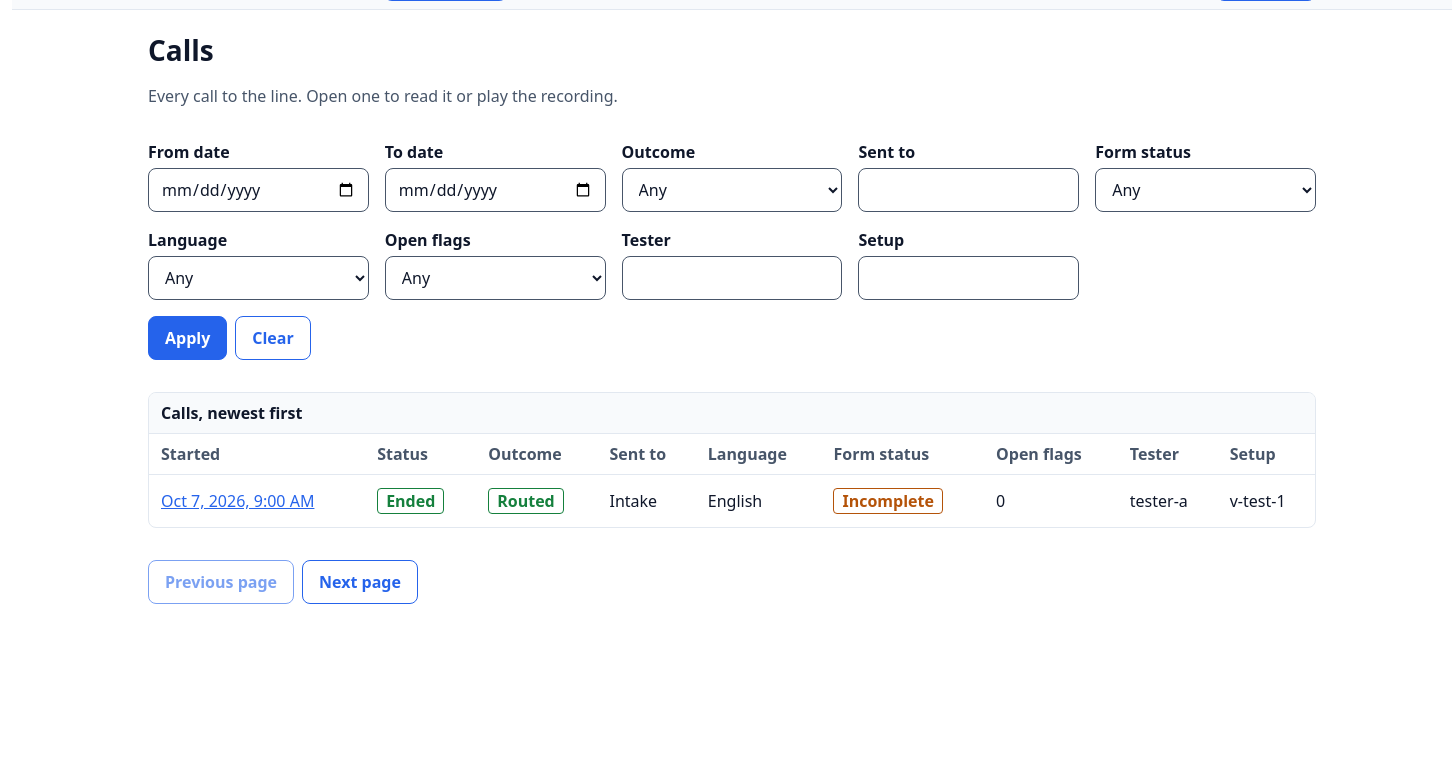
Test: calls › writes filters to the URL and queries with them
This screenshot has width=1452, height=759.
Check: the table with test id "admin-table-calls" is shown, box top-left (149, 393), bottom-right (1315, 527)
Select "Crisis" in the dropdown with test id "calls-filter-outcome" at {"x": 732, "y": 190}, box top-left (622, 168), bottom-right (842, 212)
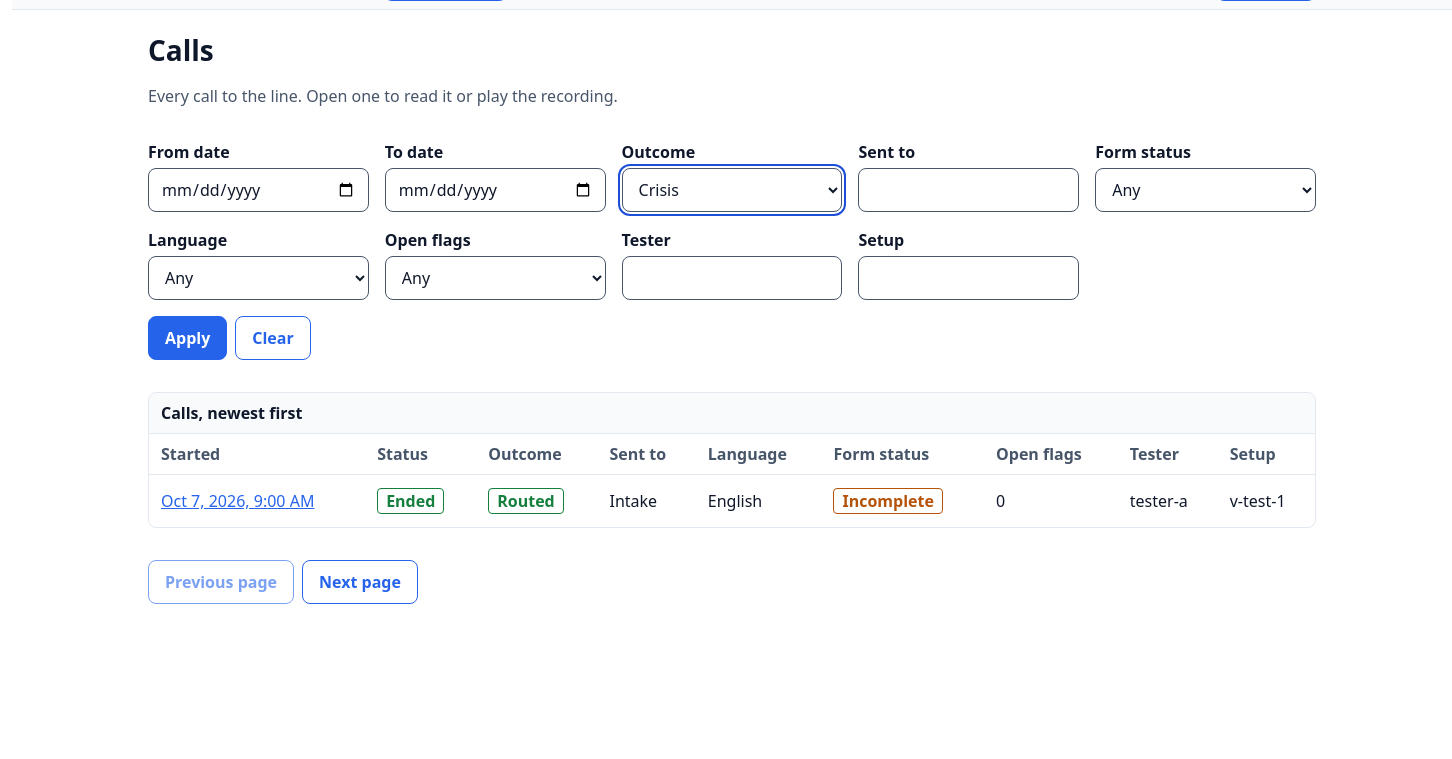
Select "Incomplete" in the dropdown with test id "calls-filter-form_status" at {"x": 1206, "y": 190}, box top-left (1095, 168), bottom-right (1316, 212)
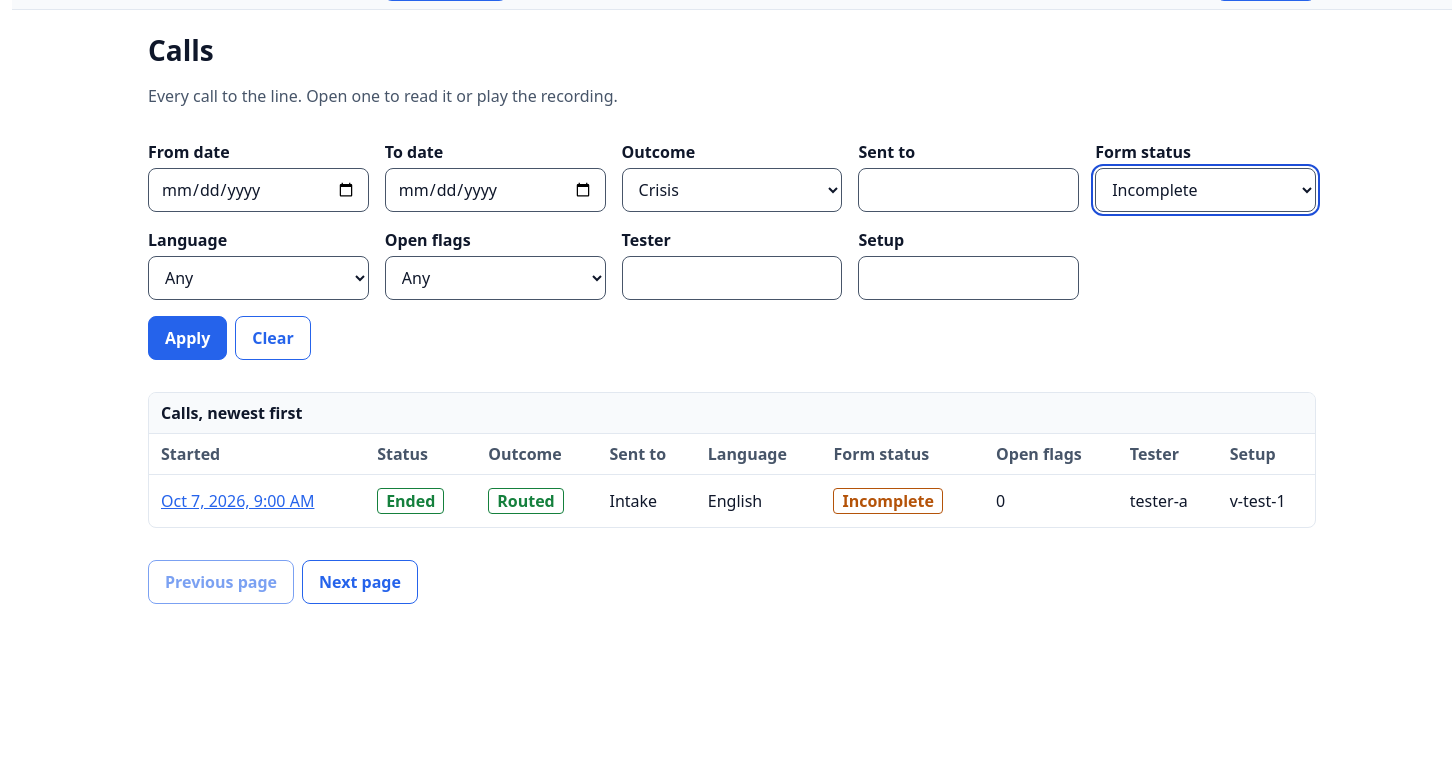
Select "Spanish" in the dropdown with test id "calls-filter-language" at {"x": 258, "y": 278}, box top-left (148, 256), bottom-right (369, 300)
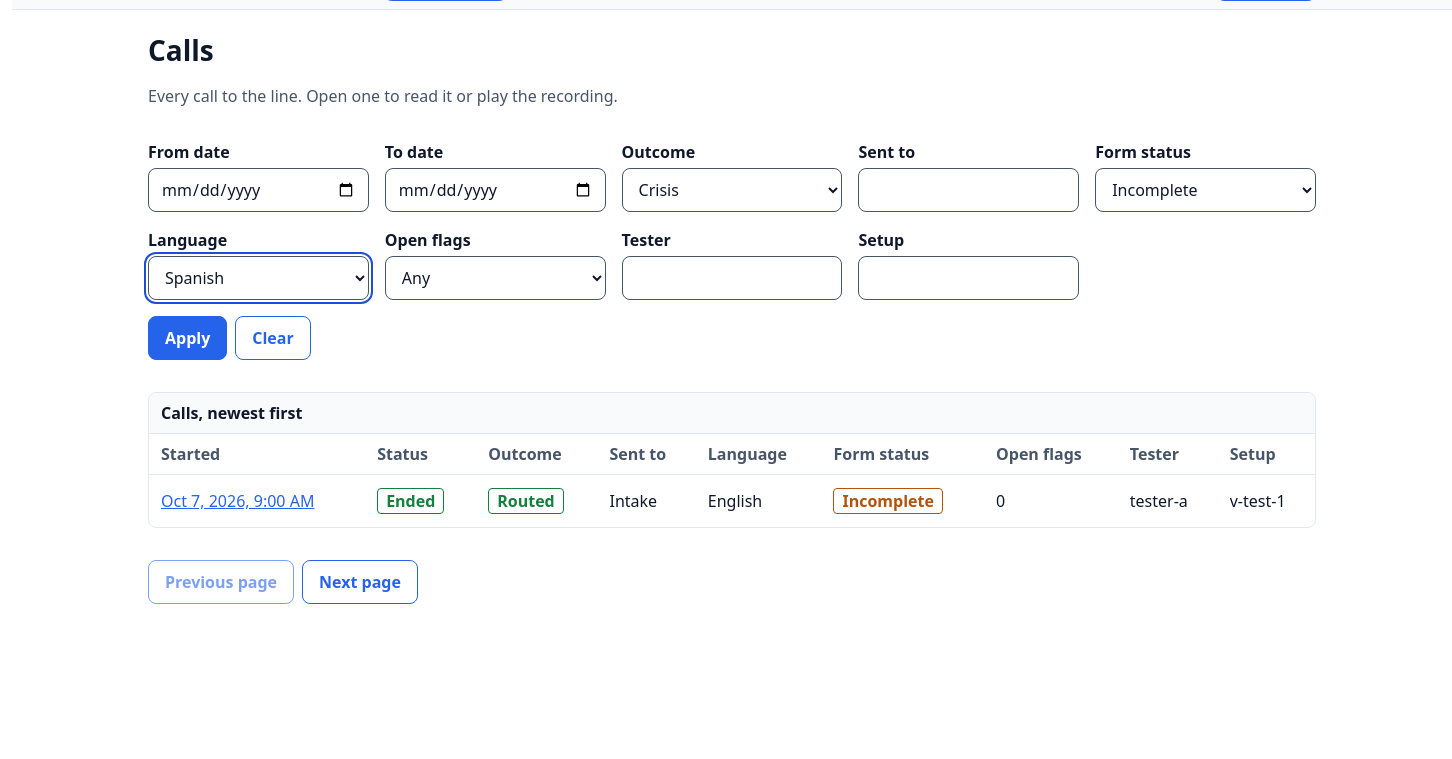
Click the button with test id "calls-apply".
click(188, 338)  # box top-left (148, 316), bottom-right (227, 360)
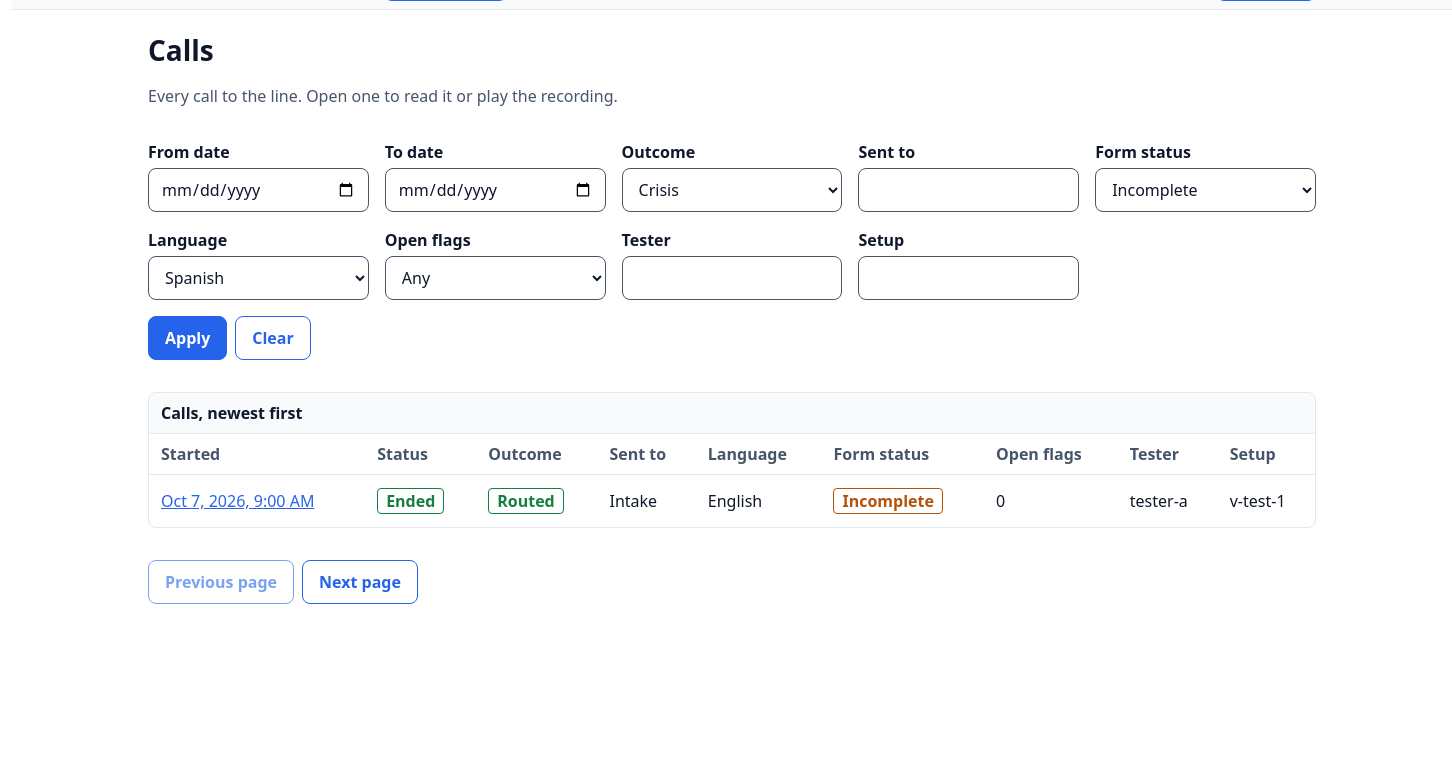
Click the button with test id "calls-next".
click(360, 582)  # box top-left (302, 560), bottom-right (418, 604)
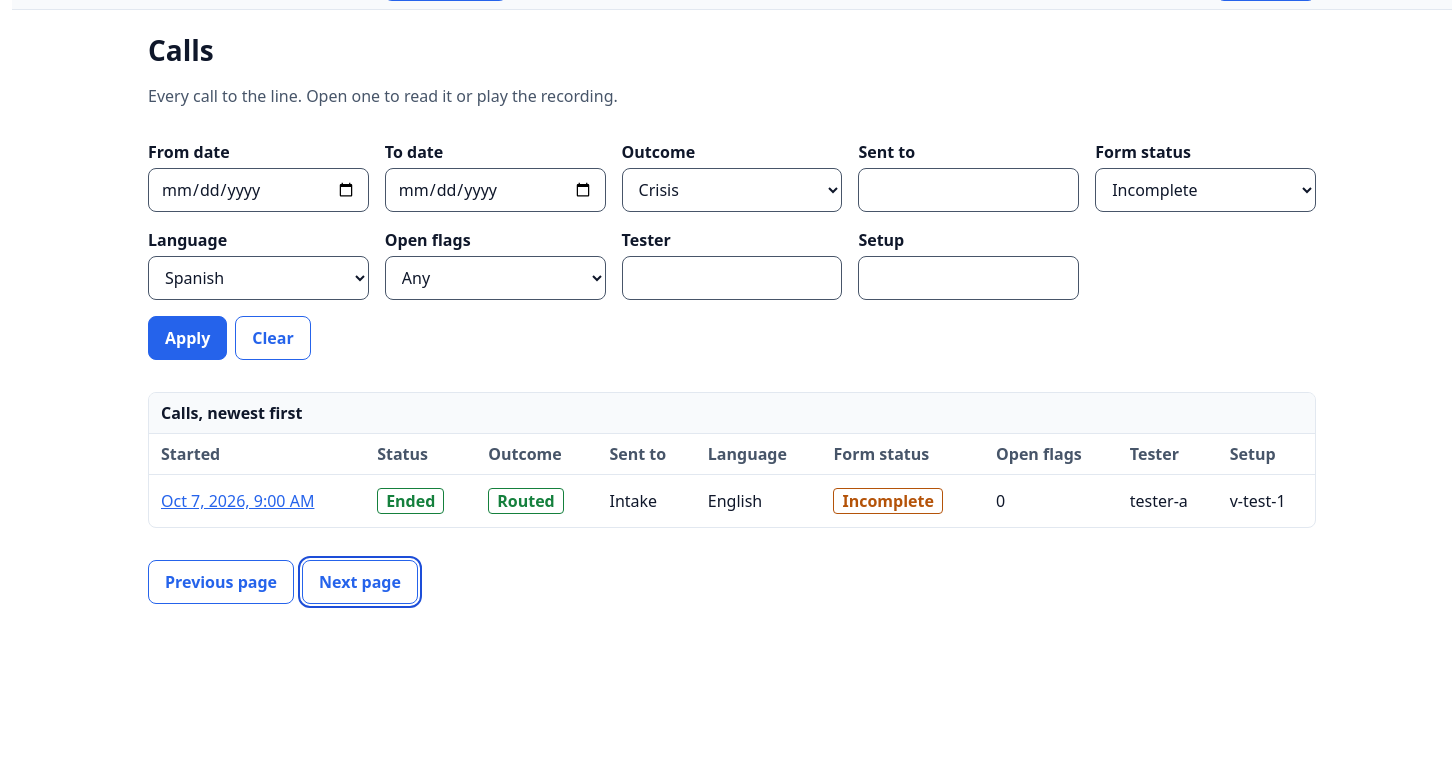
Click the button with test id "calls-clear".
click(273, 338)  # box top-left (235, 316), bottom-right (311, 360)
(page scrolled)
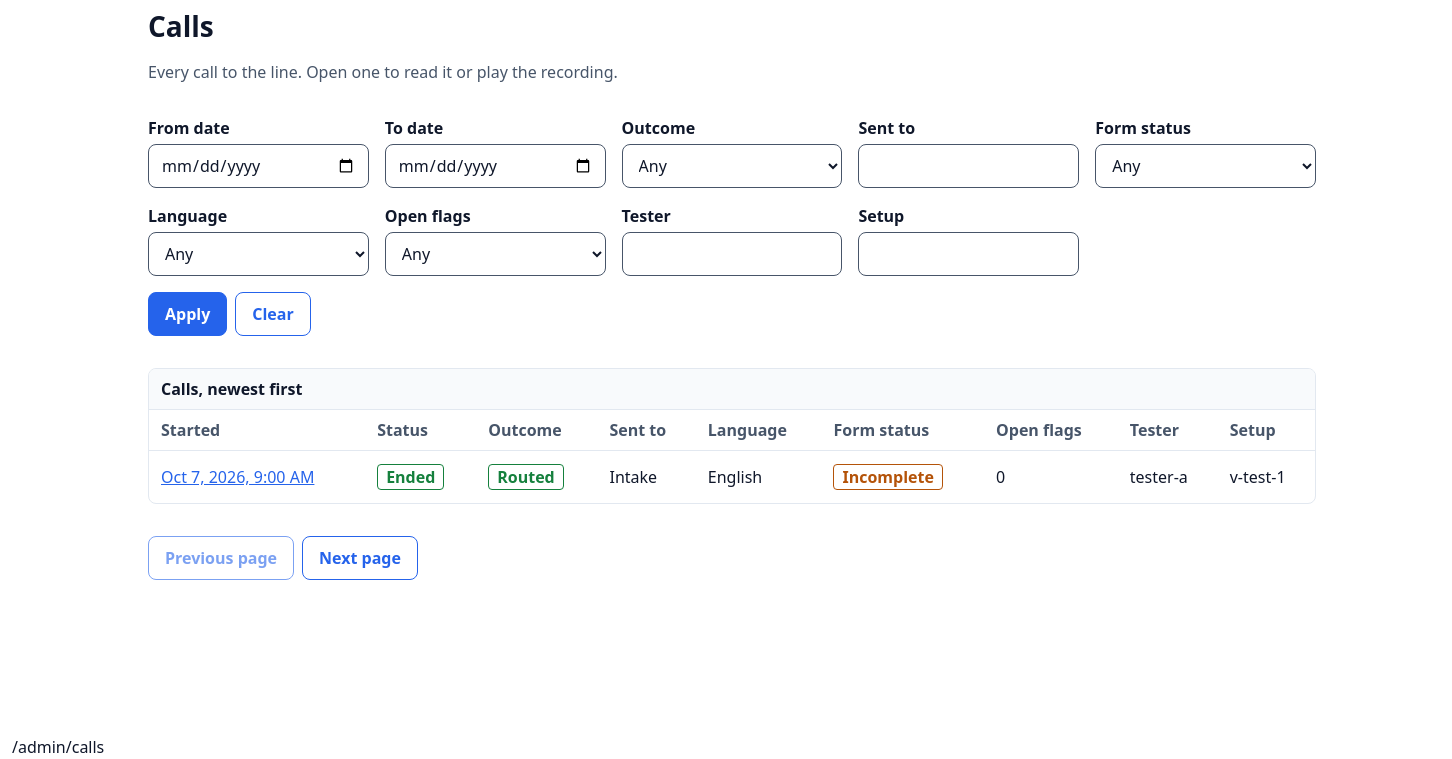
Check: the text with test id "location" reads "/admin/calls", box top-left (12, 736), bottom-right (104, 758)
